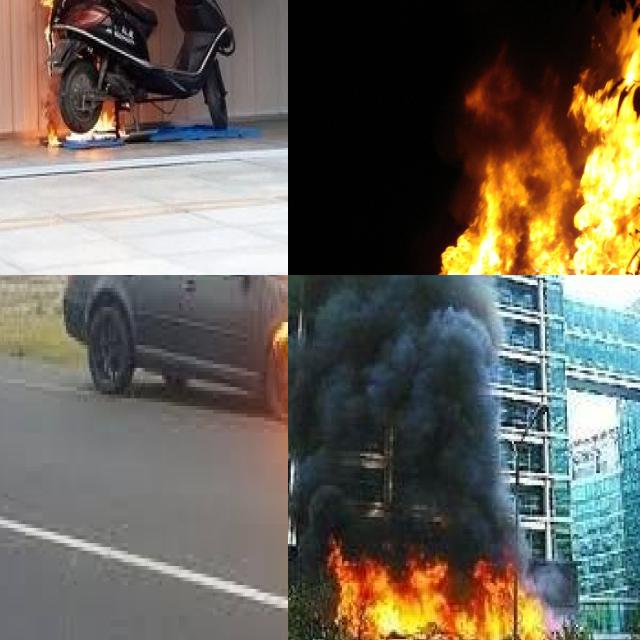fire: (399, 0, 640, 275), (329, 526, 546, 640), (27, 0, 146, 143)
smoke: (288, 275, 534, 558)
